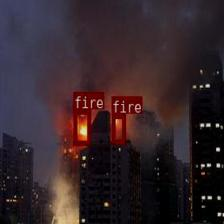fire: (73, 109, 90, 145), (111, 114, 125, 143)
